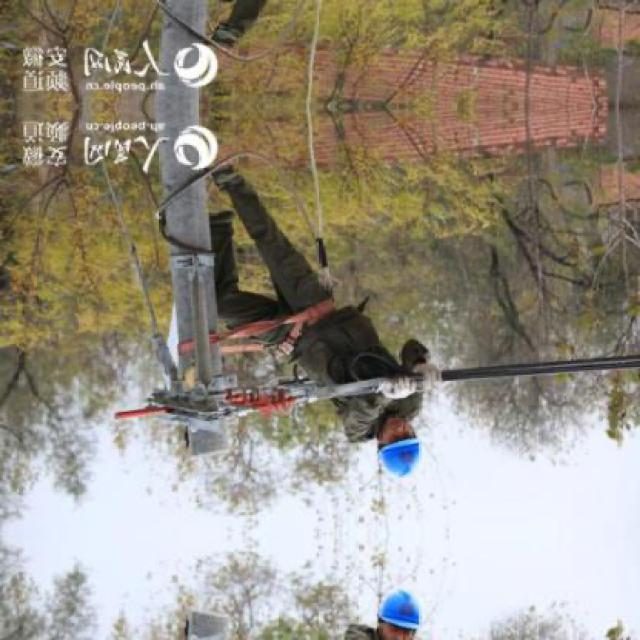con casco: (358, 407, 442, 499)
